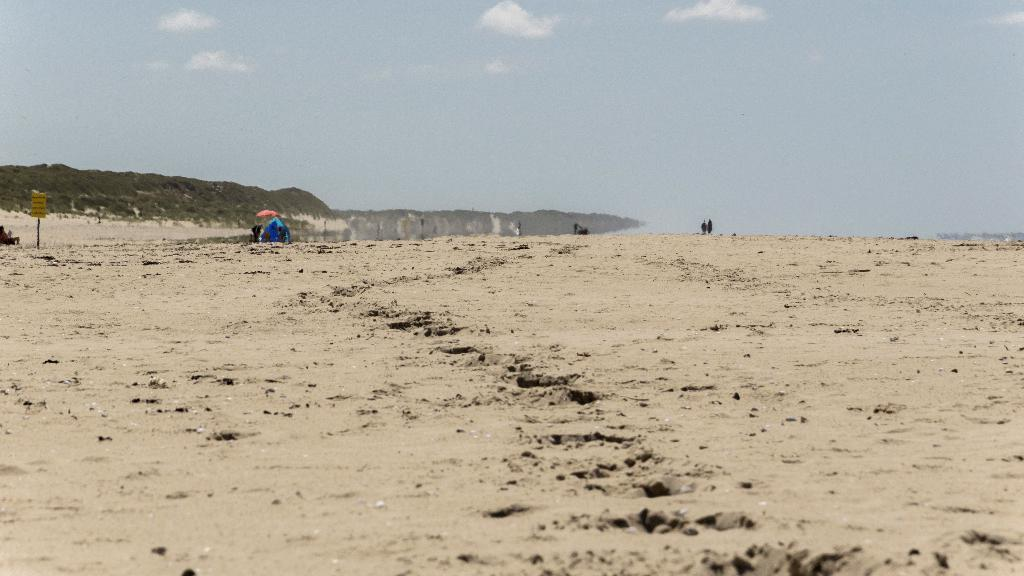person: (250, 208, 292, 243)
